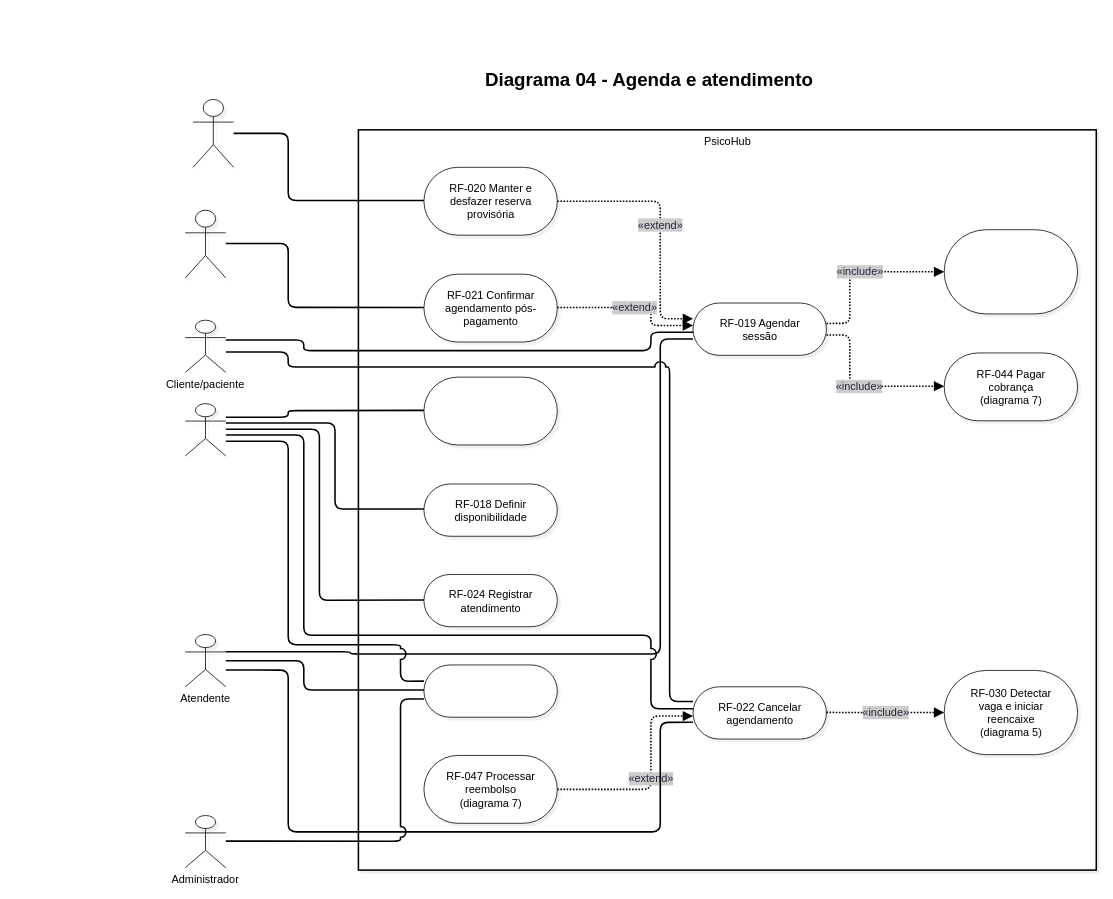
The diagram is 1113 pixels wide and 899 high, and some of its shapes have lost their labels. The centre of each missing label's shape, as x and y in pixels:
"Provedor de pagamento" goes at (206,245).
"Psicólogo" goes at (206,431).
"RF-023 Consultar agenda" goes at (491,692).
"RF-025 Consultar histórico de atendimentos" goes at (491,412).
"RF-043 Gerar cobrança do agendamento (diagrama 7)" goes at (1012,273).
"Temporizador do sistema" goes at (214,134).
